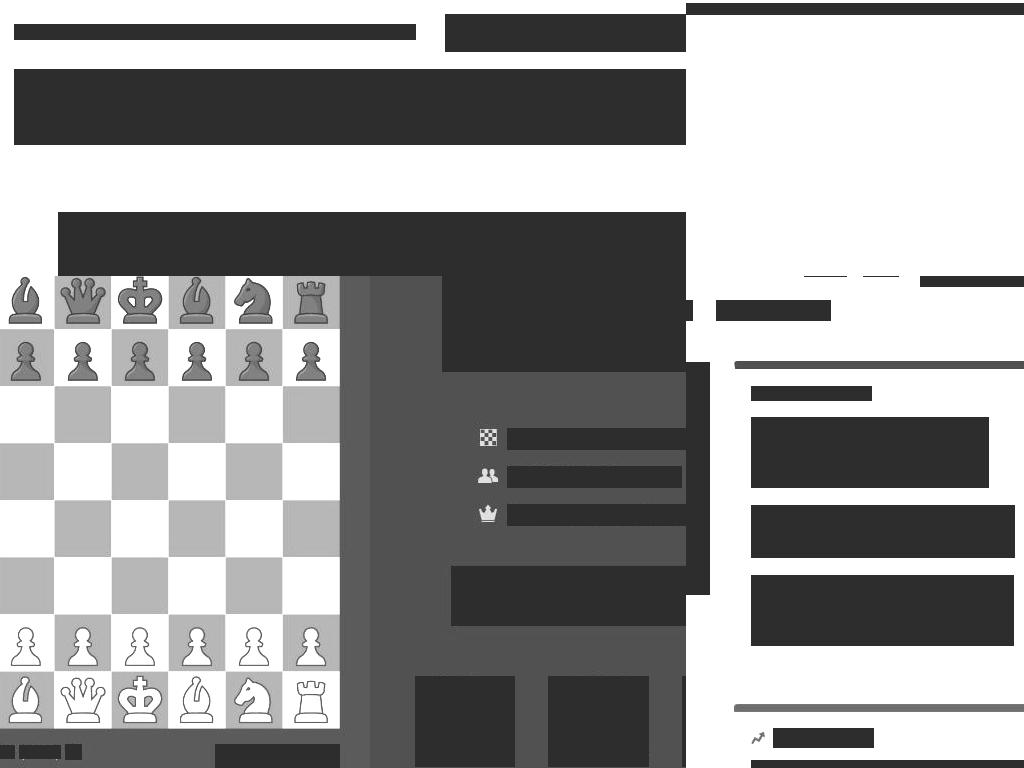button: (451, 566, 686, 626), (548, 676, 649, 767), (415, 676, 515, 767), (920, 276, 963, 287), (959, 276, 1002, 287)
field: (445, 14, 686, 52)
heading: (442, 276, 686, 372), (773, 728, 874, 748), (751, 386, 872, 401)
iframe: (58, 212, 686, 276)
image: (0, 276, 340, 729), (568, 676, 629, 736), (435, 676, 495, 736), (65, 744, 82, 760), (926, 476, 935, 484), (955, 546, 964, 554), (930, 634, 939, 642)
link: (374, 129, 545, 145), (716, 300, 831, 321), (195, 129, 283, 145)
text: (14, 69, 686, 145), (751, 575, 1014, 646), (751, 417, 989, 488), (751, 505, 1015, 558), (14, 24, 416, 40), (686, 3, 1024, 15), (507, 428, 686, 450), (507, 504, 686, 526), (507, 466, 682, 488), (215, 744, 340, 768), (552, 751, 646, 767), (282, 129, 375, 145), (423, 751, 506, 767), (19, 745, 61, 759), (544, 129, 549, 145)
